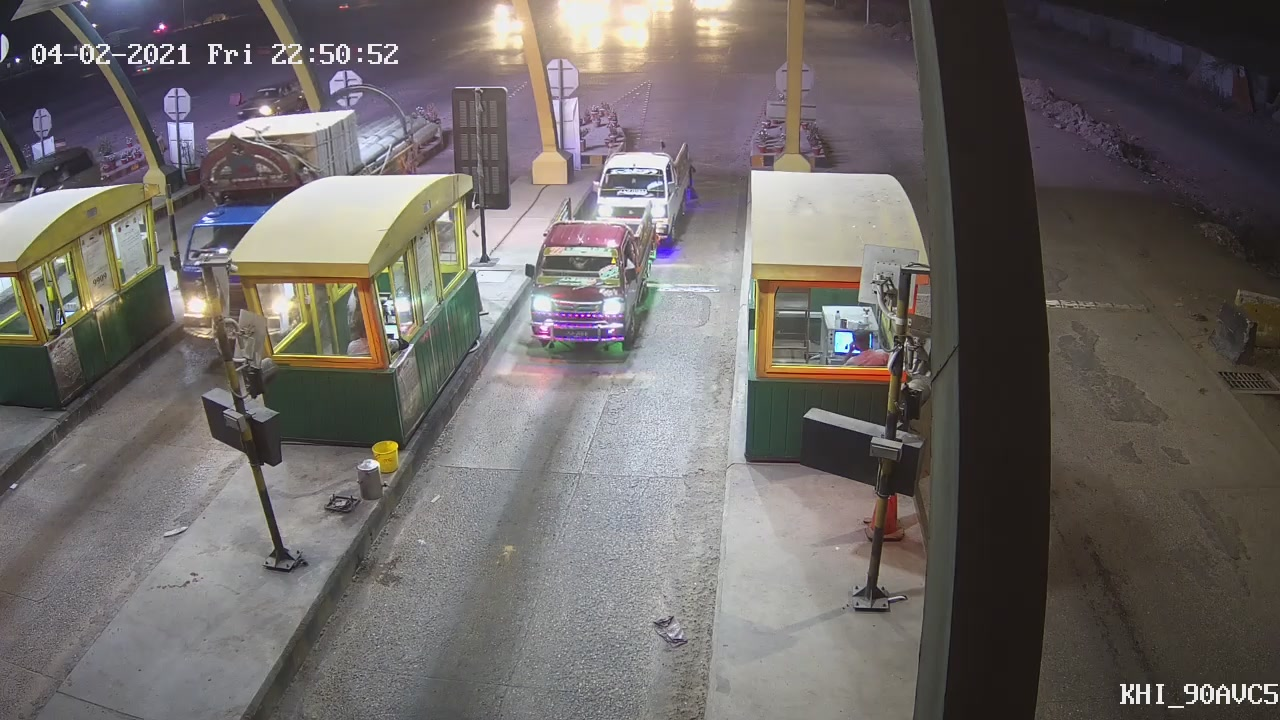F2: (519, 193, 656, 361)
